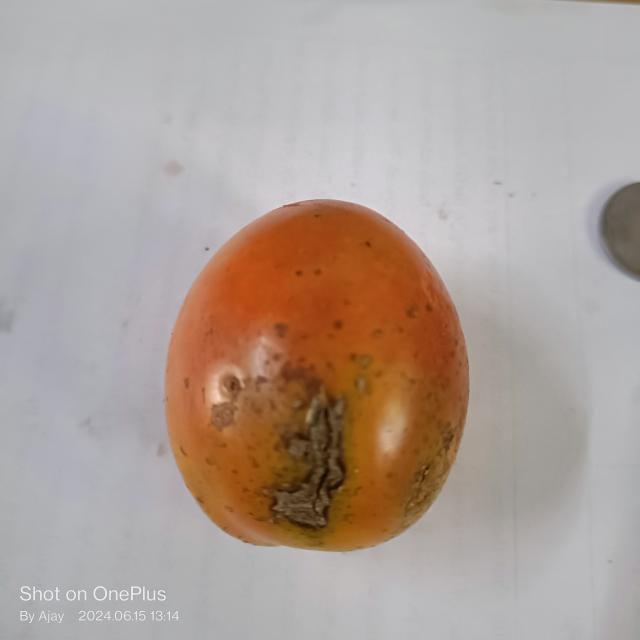Bacterial_Spot: (262, 364, 346, 543)
